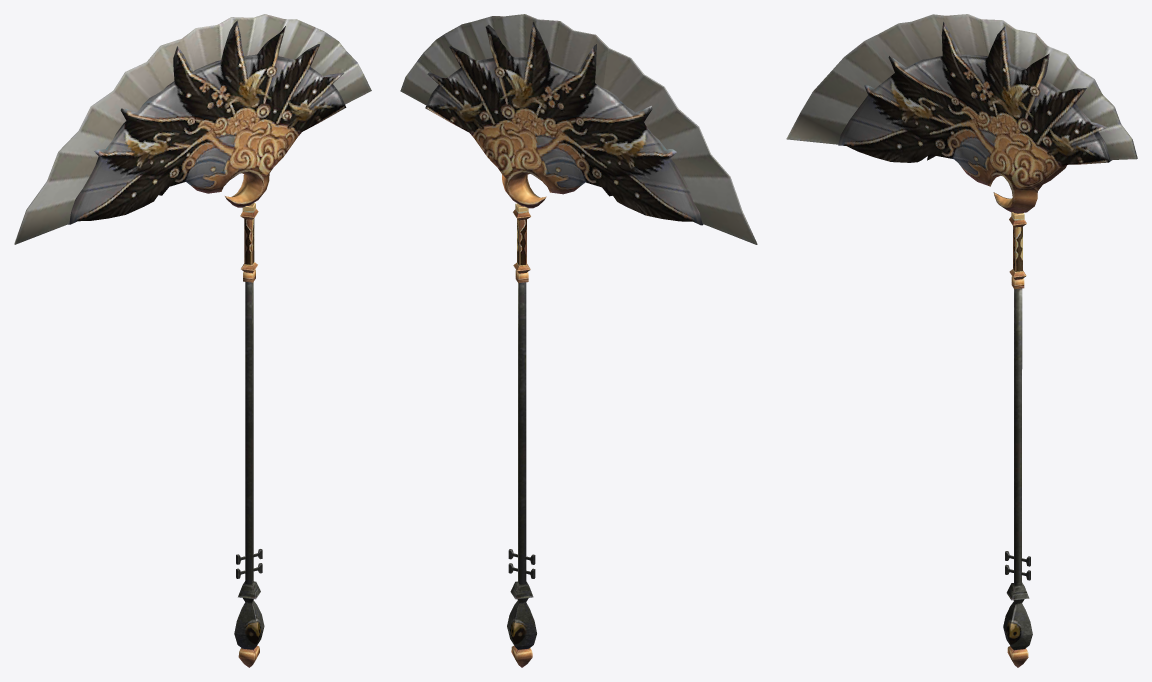
Rendered from Weapon28.FBX.
3 views of the same model, side by side, from view 1: azimuth 30°, elevation 25°; view 2: azimuth 150°, elevation 25°; view 3: azimuth 330°, elevation 25° (orthographic).
Parts seen in each view (by area): view 1: Weapon28; view 2: Weapon28; view 3: Weapon28.
Boxes of the visible parts, x1,y1,x2,y2 form: Weapon28: (14,14,371,667); Weapon28: (400,14,757,667); Weapon28: (786,14,1137,667).
Bounding box in the file's own units: 125 × 219 × 12.42.
